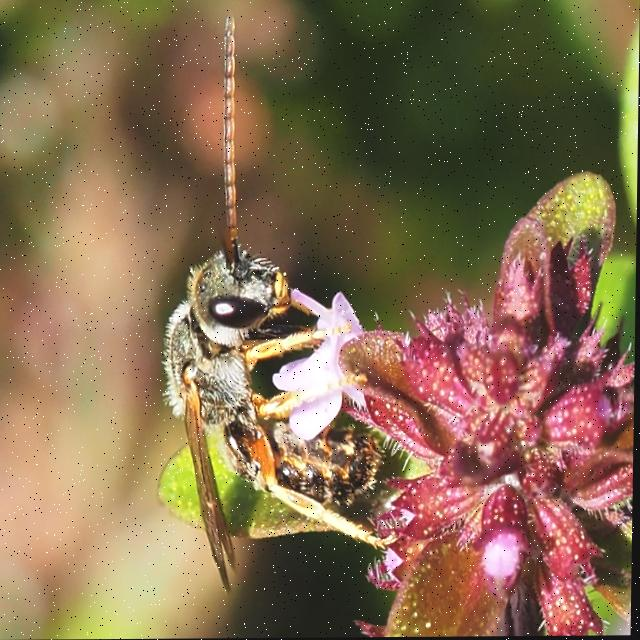Seladonia: (119, 9, 426, 603)
